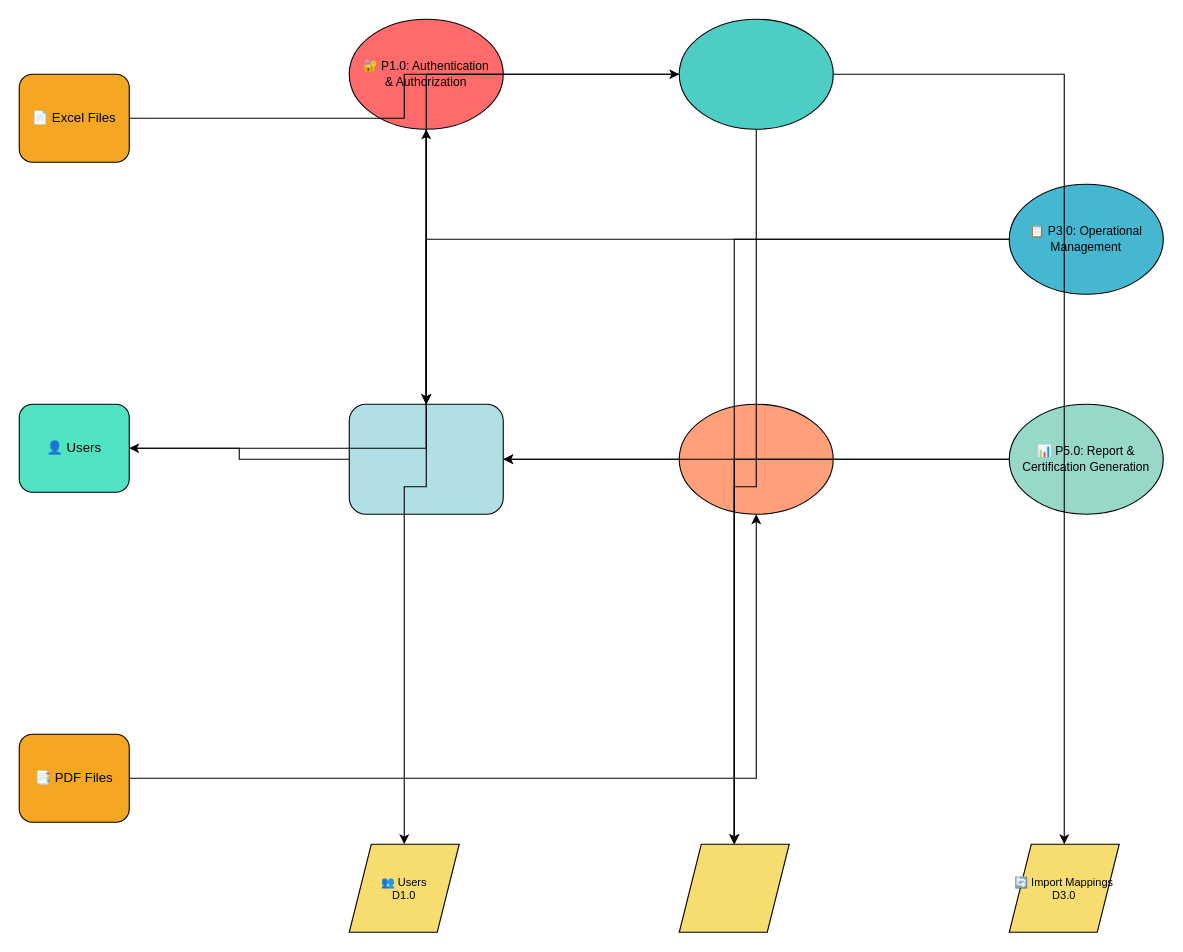
Image size: 1183x952. Some labels were removed from this diagram. The centre of each missing label's shape, as x and y in pixels:
"📅 P4.0: Weekly PDF Processing" belongs at (x=755, y=458).
"📊 Operations DB D2.0" belongs at (x=733, y=887).
"📥 P2.0: Import & Map Data (Excel/PDF Processing)" belongs at (x=755, y=73).
"🖥️ User Interface (Inertia/React)" belongs at (x=425, y=458).
